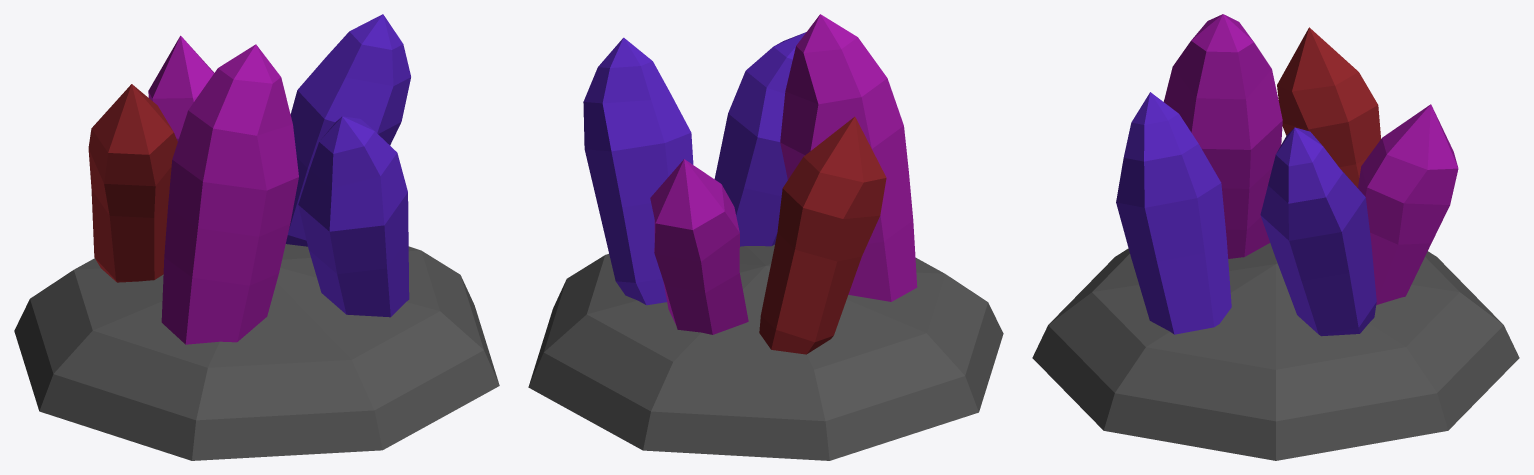
File: Crystals.fbx
3 views of the same model, side by side, from view 1: azimuth 30°, elevation 25°; view 2: azimuth 150°, elevation 25°; view 3: azimuth 270°, elevation 25° (orthographic). The views are drawn at different scales.
Visible parts, largest first — view 1: Crystals; view 2: Crystals; view 3: Crystals.
Part boxes in pixels (x1,y1,x2,y2): Crystals: (14,14,499,460); Crystals: (528,14,1003,460); Crystals: (1032,14,1519,460).
Size of the model in its own units: 0.6653 by 0.4981 by 0.6653.
